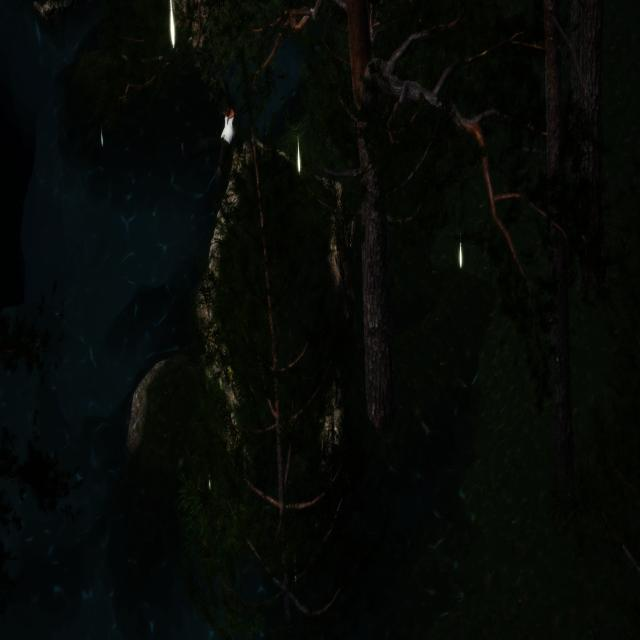Human: (177, 95, 250, 193)
